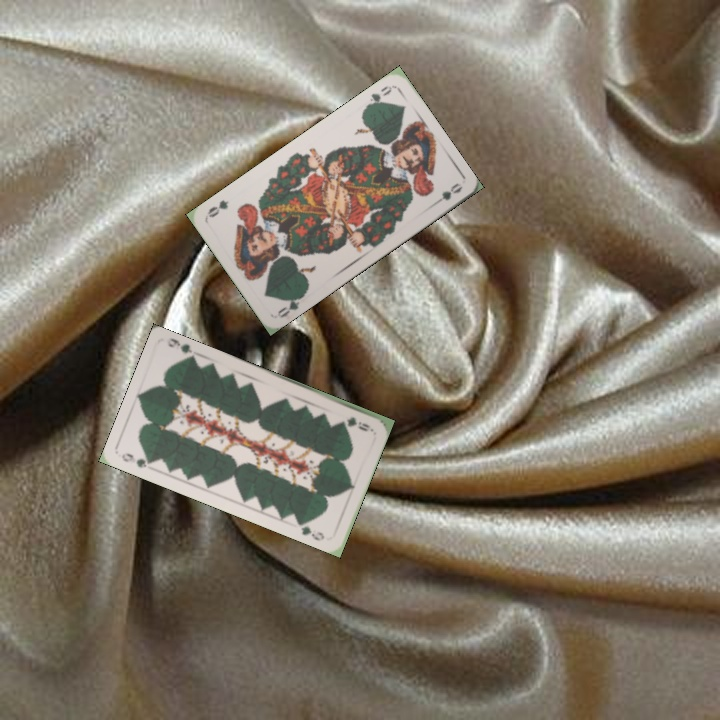G9: (117, 449, 157, 471), (336, 413, 374, 433)
GO: (274, 289, 308, 320), (361, 81, 394, 112)
